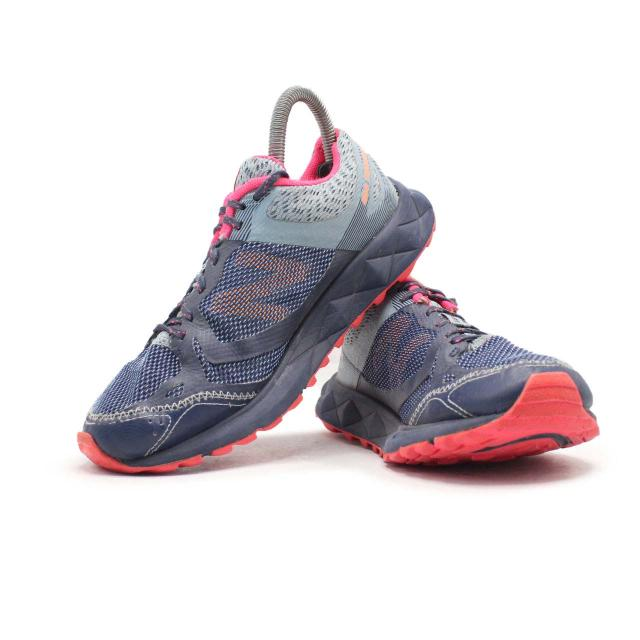heel: (336, 129, 398, 241)
midsole: (80, 181, 436, 472), (319, 371, 599, 460)
uppersole: (80, 155, 366, 460), (339, 282, 592, 421)
